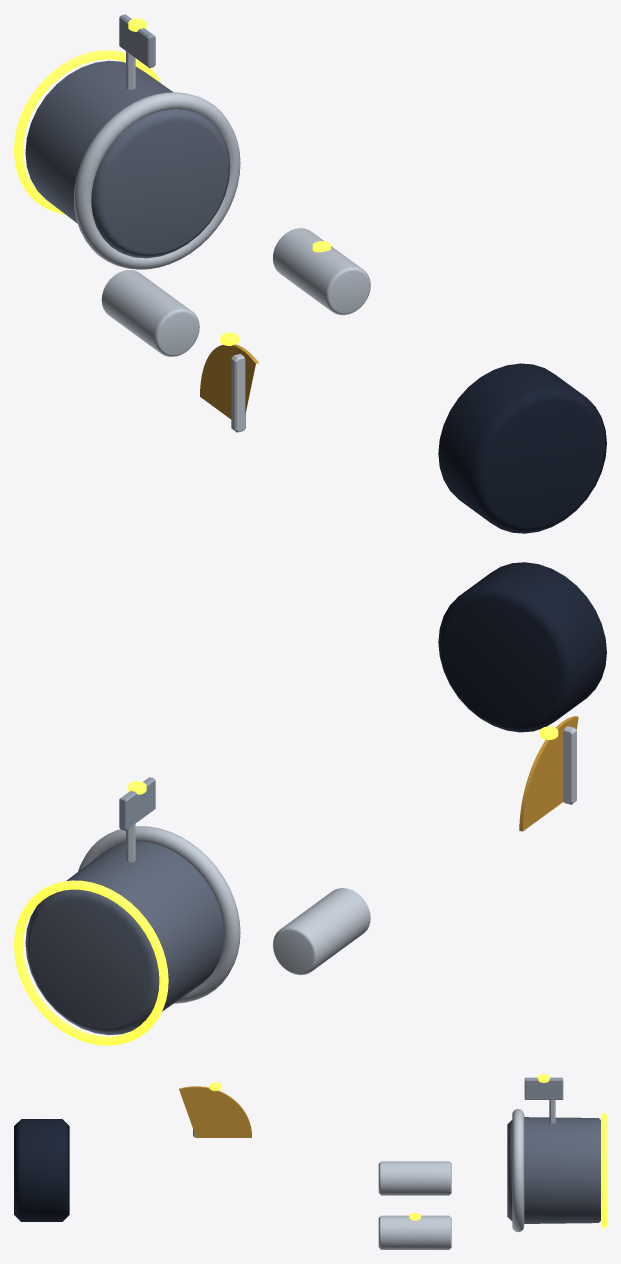
Rendered from tower_nova_range_s5.glb.
3 views of the same model, one above another, from view 1: azimuth 30°, elevation 25°; view 2: azimuth 150°, elevation 25°; view 3: azimuth 270°, elevation 25° (orthographic). The views are drawn at different scales.
Parts seen in each view (by area): view 1: nova_tube_extension, nova_counterweight, nova_tube_collar, nova_recup_ext_r, nova_recup_ext_l, nova_tube_ext_glow, nova_quadrant_plate, nova_wind_vane, nova_quadrant_pointer; view 2: nova_tube_extension, nova_counterweight, nova_recup_ext_r, nova_tube_collar, nova_tube_ext_glow, nova_quadrant_plate, nova_wind_vane, nova_quadrant_pointer; view 3: nova_tube_extension, nova_counterweight, nova_quadrant_plate, nova_recup_ext_r, nova_recup_ext_l, nova_tube_collar, nova_wind_vane, nova_tube_ext_glow.
Part boxes in pixels (left/top/right/bottom): nova_tube_extension: left=25, top=60, right=230, bottom=258; nova_counterweight: left=438, top=363, right=606, bottom=533; nova_tube_collar: left=74, top=92, right=240, bottom=269; nova_recup_ext_r: left=101, top=270, right=199, bottom=356; nova_recup_ext_l: left=273, top=228, right=370, bottom=315; nova_tube_ext_glow: left=14, top=50, right=161, bottom=214; nova_quadrant_plate: left=200, top=344, right=258, bottom=419; nova_wind_vane: left=119, top=14, right=155, bottom=67; nova_quadrant_pointer: left=231, top=354, right=245, bottom=432; nova_tube_extension: left=25, top=841, right=223, bottom=1035; nova_counterweight: left=438, top=562, right=606, bottom=732; nova_recup_ext_r: left=272, top=888, right=370, bottom=975; nova_tube_collar: left=78, top=826, right=240, bottom=1003; nova_tube_ext_glow: left=14, top=880, right=168, bottom=1045; nova_quadrant_plate: left=519, top=716, right=578, bottom=831; nova_wind_vane: left=119, top=777, right=155, bottom=830; nova_quadrant_pointer: left=563, top=726, right=576, bottom=804; nova_tube_extension: left=507, top=1117, right=600, bottom=1223; nova_counterweight: left=14, top=1119, right=69, bottom=1221; nova_quadrant_plate: left=179, top=1086, right=251, bottom=1137; nova_recup_ext_r: left=378, top=1161, right=451, bottom=1195; nova_recup_ext_l: left=378, top=1215, right=451, bottom=1249; nova_tube_collar: left=512, top=1109, right=524, bottom=1232; nova_wind_vane: left=524, top=1077, right=563, bottom=1099; nova_tube_ext_glow: left=601, top=1113, right=606, bottom=1227.
Size of the model in its own units: 0.9804 by 0.7726 by 2.76.
